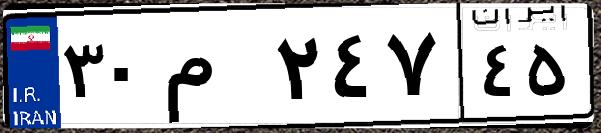0: (110, 28, 158, 98)
2: (270, 28, 330, 110)
3: (57, 26, 110, 100)
4: (330, 28, 385, 110), (475, 38, 525, 113)
5: (525, 38, 570, 115)
7: (385, 28, 445, 110)
م: (158, 20, 270, 120)
